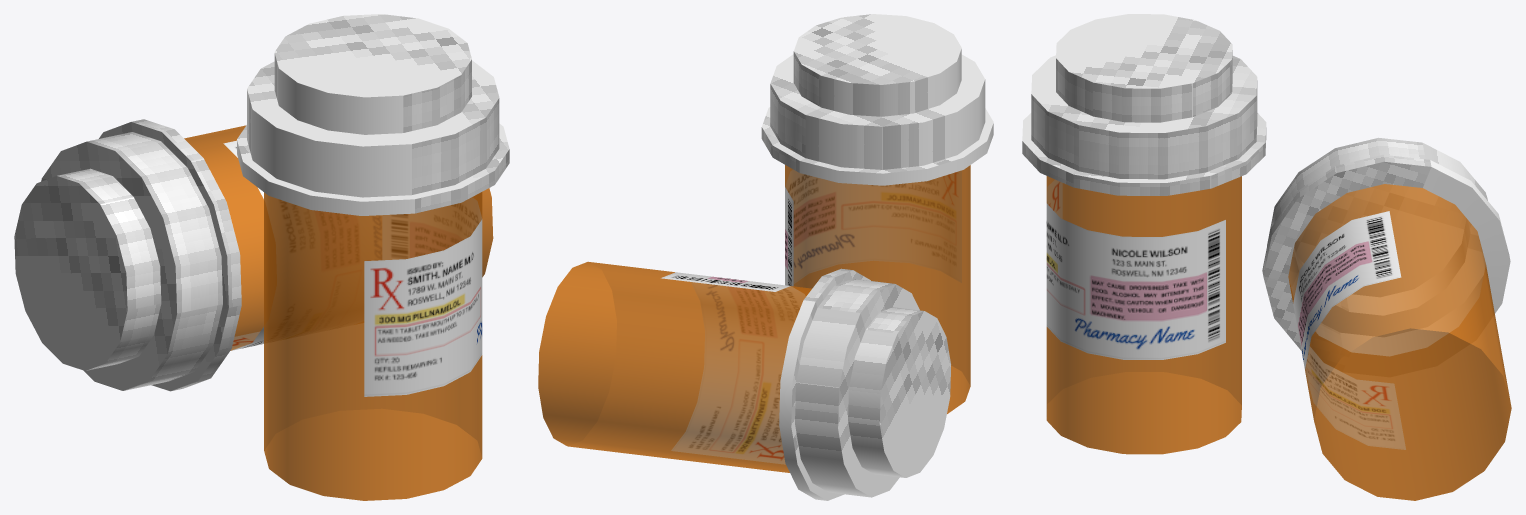
The model's file is meds.glb.
3 views of the same model, side by side, from view 1: azimuth 30°, elevation 25°; view 2: azimuth 150°, elevation 25°; view 3: azimuth 270°, elevation 25° (orthographic). The views are drawn at different scales.
Visible parts, largest first — view 1: Medicine, Medicine.001; view 2: Medicine.001, Medicine; view 3: Medicine, Medicine.001.
Part boxes in pixels (box(x1,y1,x2,y2)): Medicine: box(237, 14, 509, 500); Medicine.001: box(14, 119, 493, 391); Medicine.001: box(538, 261, 950, 500); Medicine: box(761, 14, 993, 413); Medicine: box(1022, 14, 1266, 454); Medicine.001: box(1262, 137, 1511, 500).
Bounding box in the file's own units: 0.156 × 0.1496 × 0.1825.
Materials: 3 (2 with a texture image).
